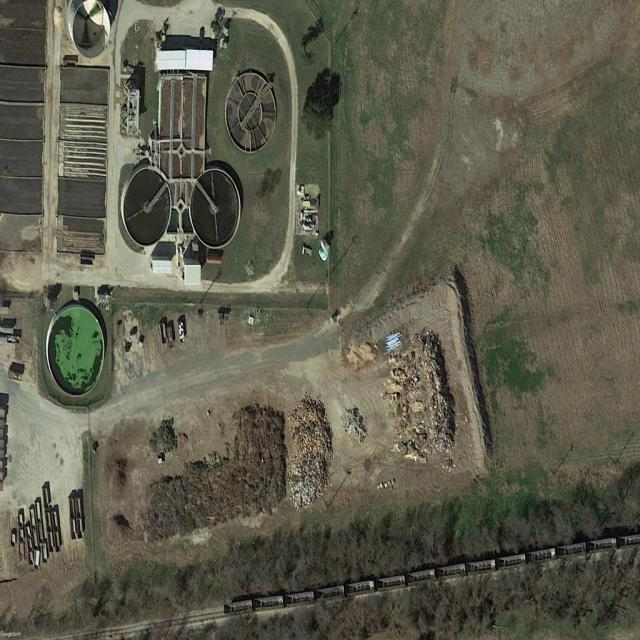dump_site: (382, 348, 433, 470), (287, 393, 333, 512)
